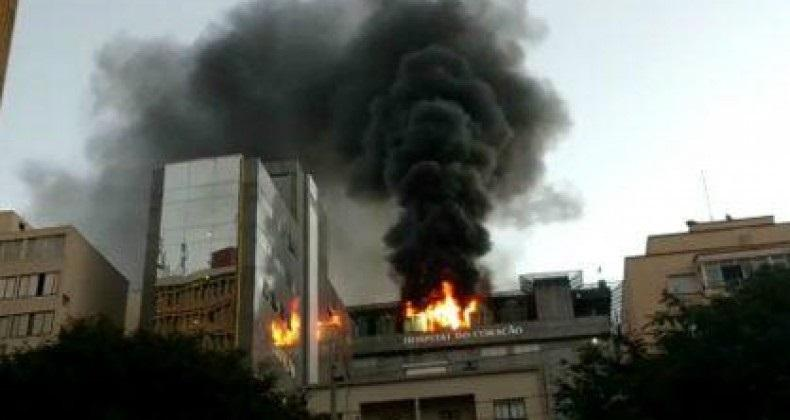fire: (418, 297, 477, 329), (273, 311, 303, 343)
smoke: (198, 41, 476, 150)
